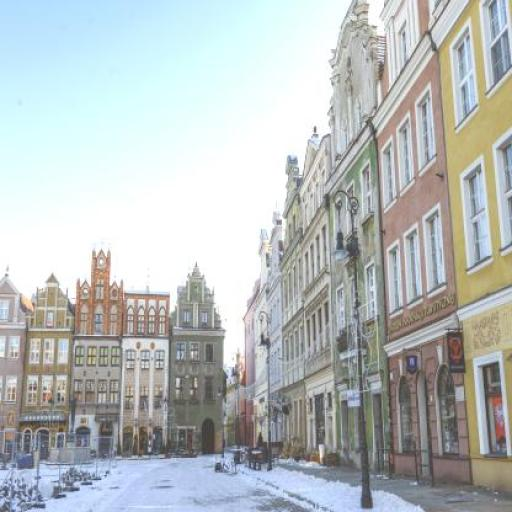street light: (331, 189, 374, 509), (258, 311, 272, 472), (232, 353, 240, 461), (216, 374, 224, 459)
